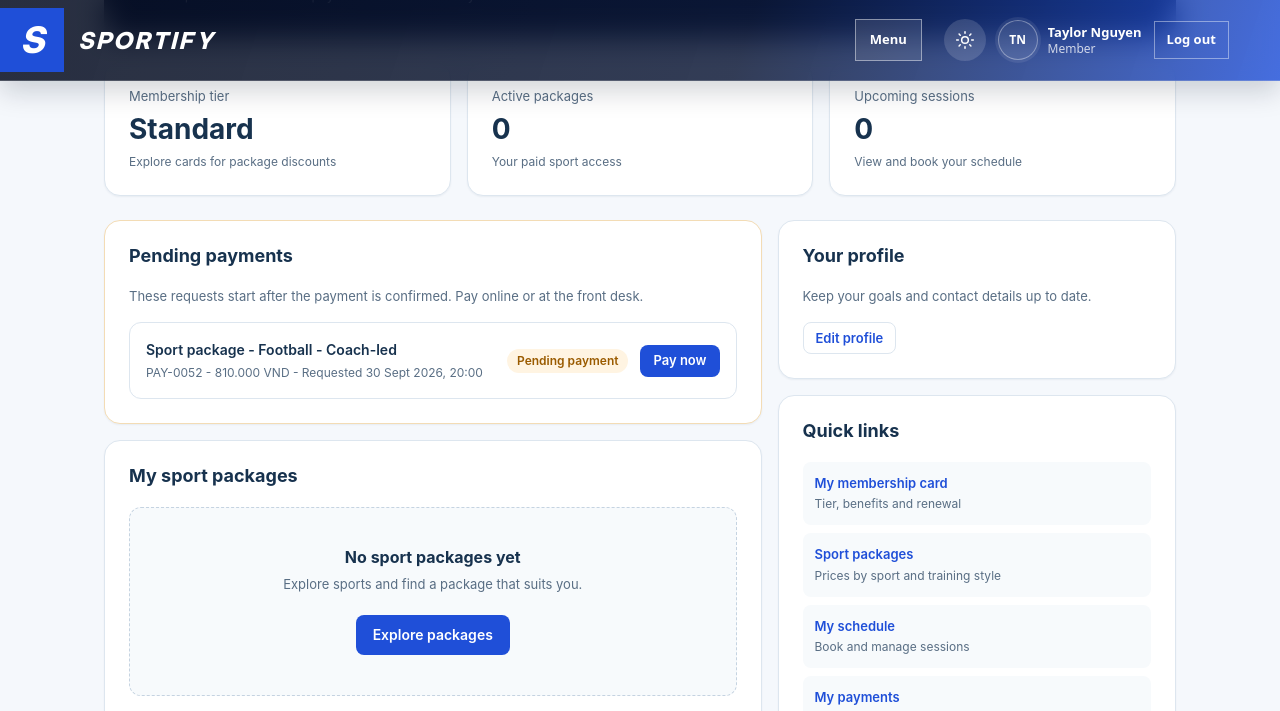
Test case: FE-02 Member Dashboard (F1-07) › TC-FE02-023 a pending package links to its payment summary
(page scrolled)
Check: the text "Sport package - Football - Coach-led" is shown, box x1=146 y1=341 x2=397 y2=358
Check: the text "PAY-0052 - 810.000 VND - Requested 30 Sept 2026, 20:00" is shown, box x1=146 y1=364 x2=483 y2=382
Click the link with aria-label "Pay now for Sport package - Football - Coach-led": [680, 361] box x1=640 y1=345 x2=720 y2=377
(page scrolled)
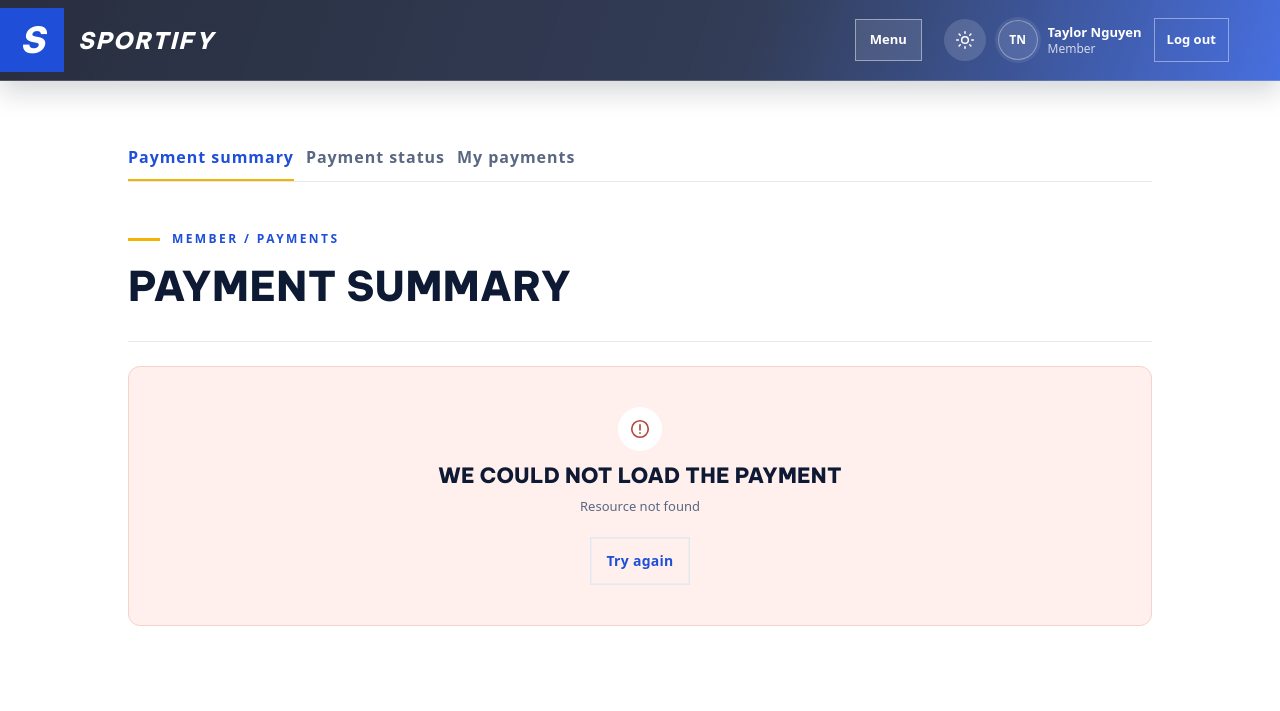
Check: the heading "Payment Summary" is shown, box x1=128 y1=260 x2=571 y2=312
